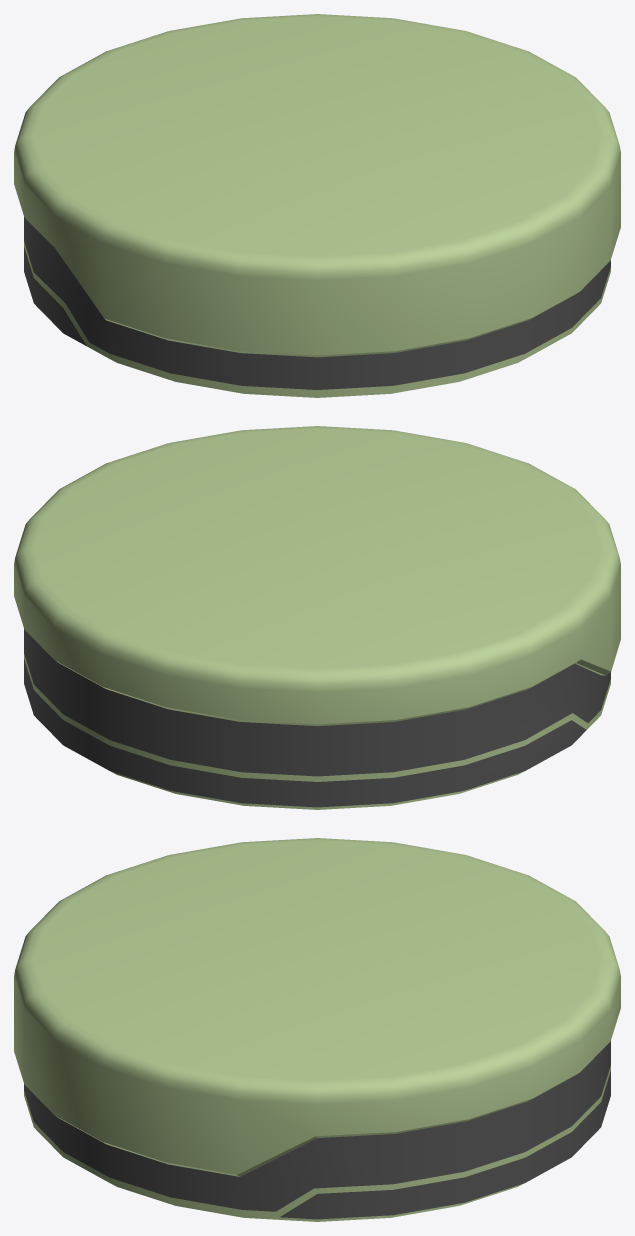
The model's file is MOb_Stool_003_c.fbx.
3 views of the same model, one above another, from view 1: azimuth 30°, elevation 25°; view 2: azimuth 150°, elevation 25°; view 3: azimuth 270°, elevation 25° (orthographic).
Parts seen in each view (by area): view 1: MOb_Stool_003_c; view 2: MOb_Stool_003_c; view 3: MOb_Stool_003_c.
Boxes of the visible parts, x1,y1,x2,y2 form: MOb_Stool_003_c: [14, 14, 620, 397]; MOb_Stool_003_c: [14, 426, 620, 809]; MOb_Stool_003_c: [14, 838, 620, 1221].
Bounding box in the file's own units: 0.7 × 0.18 × 0.7.
